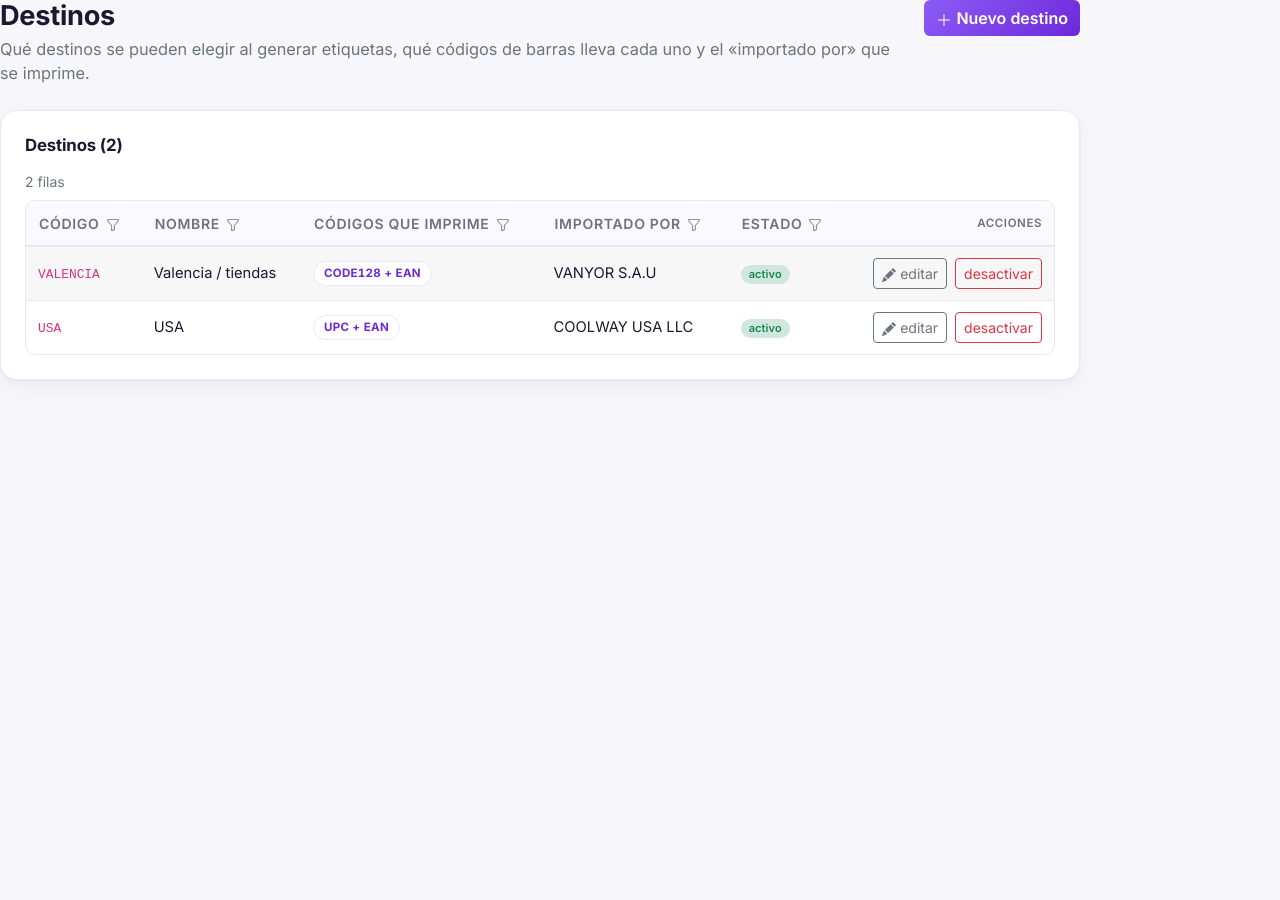
Scenario: DestinosPage · editar carga EL destino de esa fila › marca los checkboxes de los códigos que ese destino ya imprime
This screenshot has width=1280, height=900.
Expected: the text "Valencia / tiendas" is shown, x1=142 y1=246 x2=301 y2=300
Click the button with aria-label "Editar VALENCIA". click: [910, 273]
box: x1=873 y1=258 x2=947 y2=289
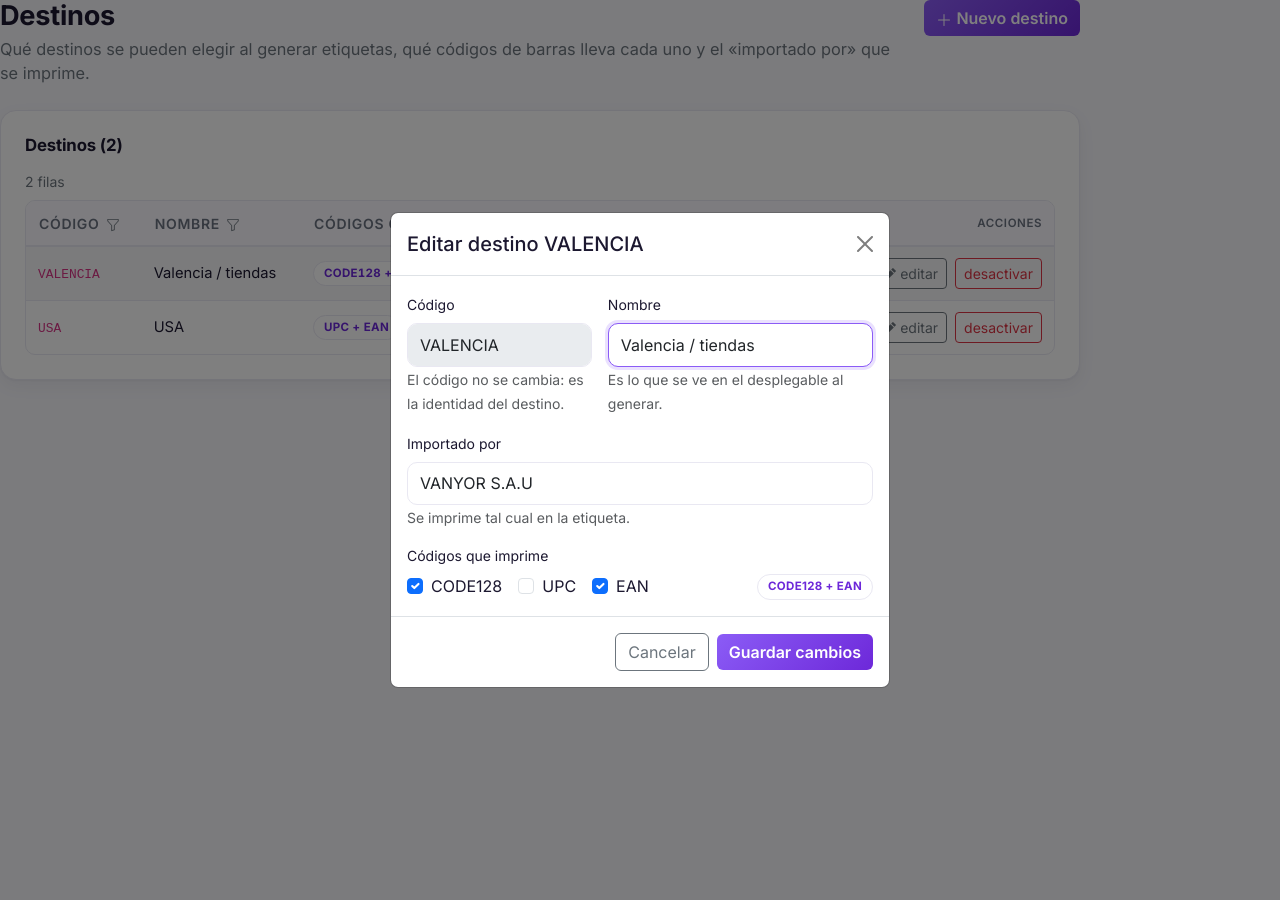
Expected: the checkbox labelled "UPC" is not checked, x1=518 y1=578 x2=534 y2=594
Now the checkbox labelled "CODE128" is checked, box x1=407 y1=578 x2=423 y2=594
Now the checkbox labelled "EAN" is checked, box x1=592 y1=578 x2=608 y2=594
